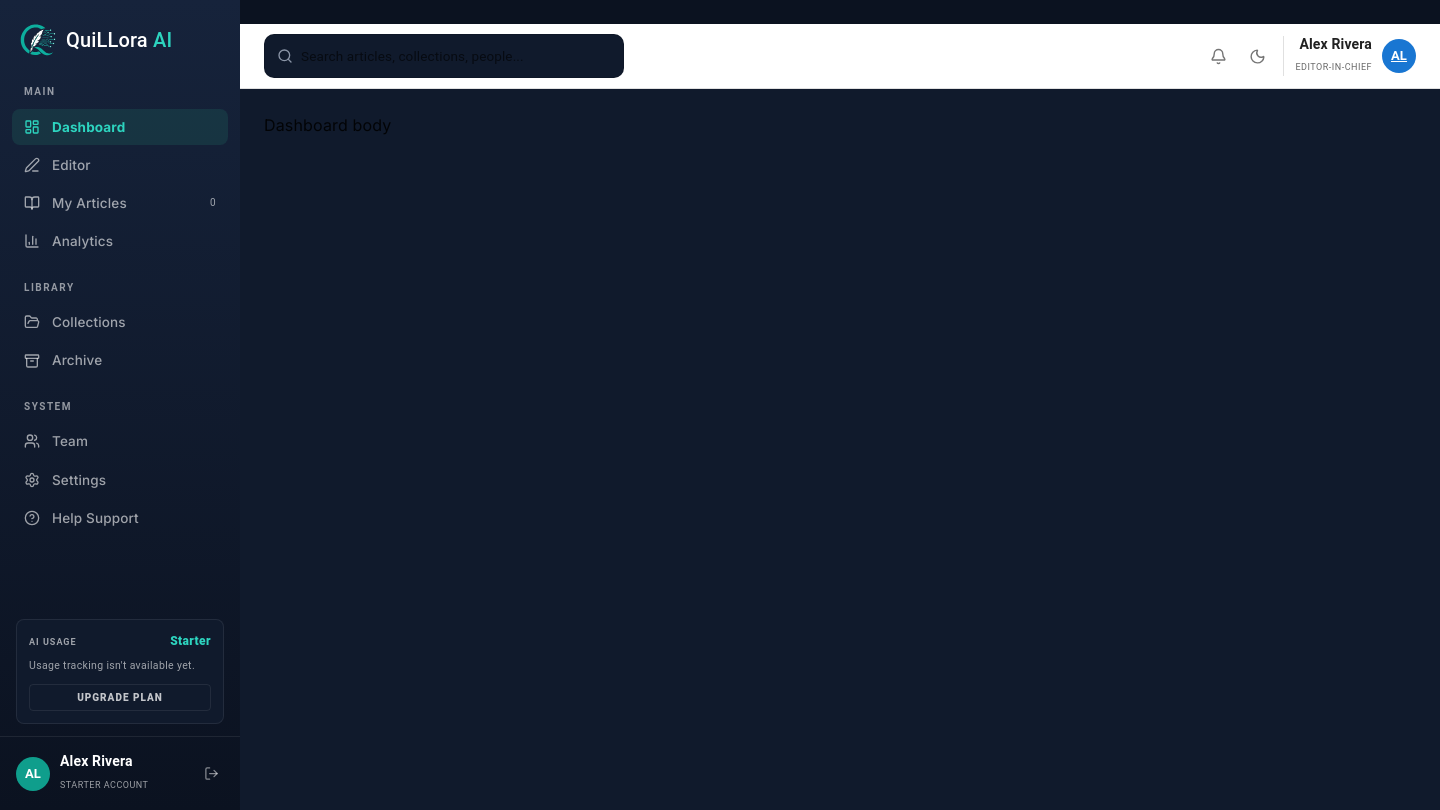
Test case: topbar search › encodes characters that would otherwise break the URL
The width and height of the screenshot is (1440, 810).
Type "a&b=c" into the field named "search articles, collections and people" at (456, 56), box [301,42,611,70]
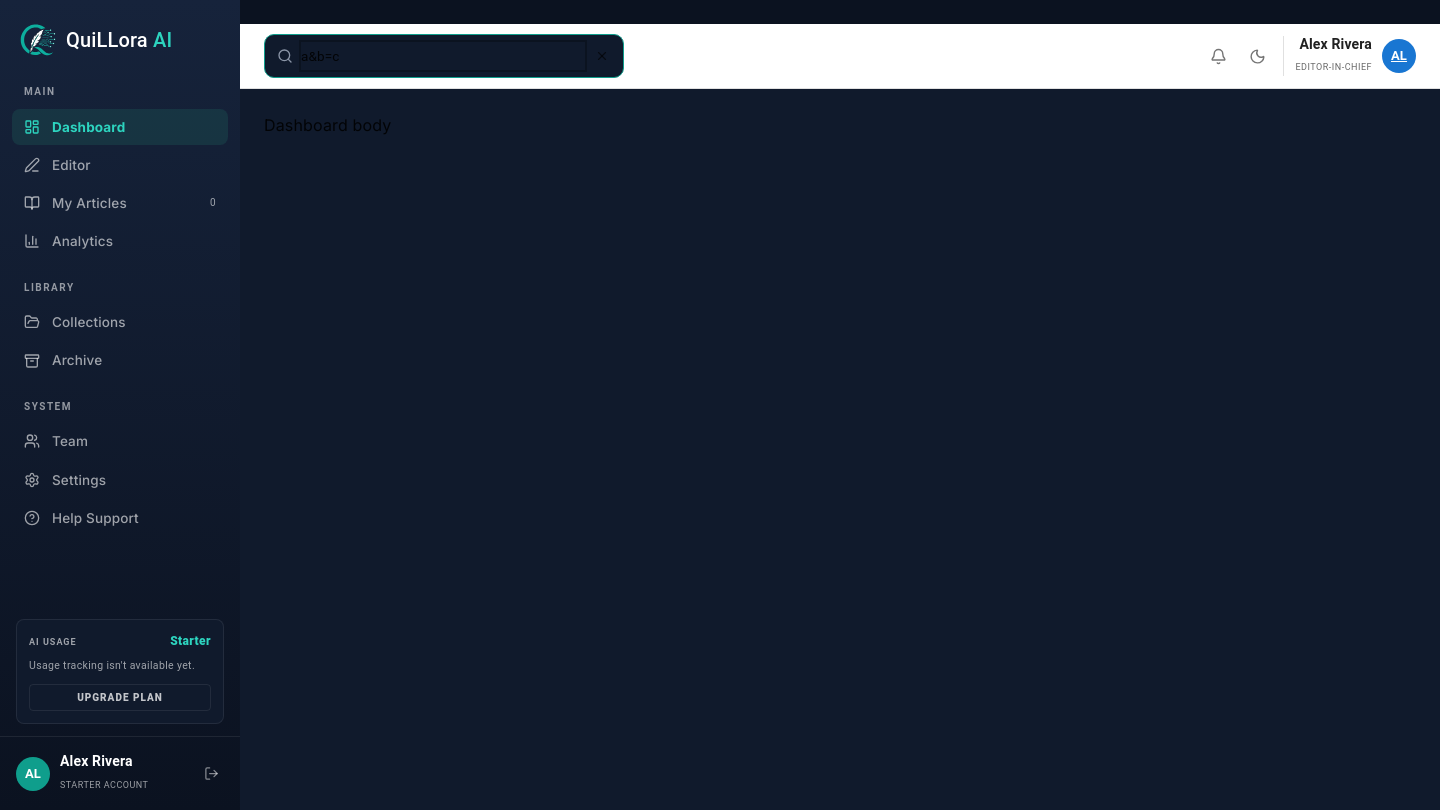
Press Enter
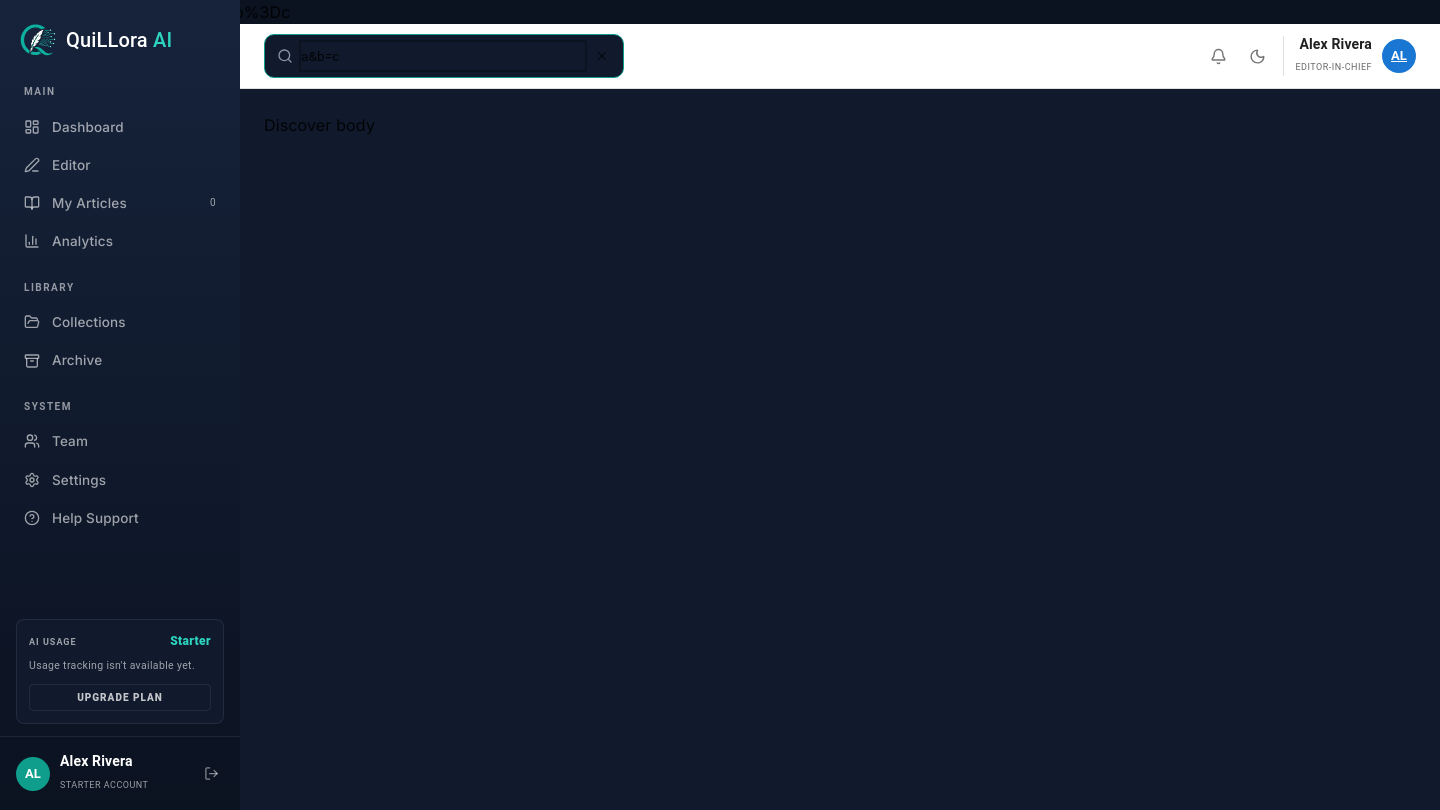
Expected: the text with test id "location" shows "q=a%26b%3Dc", [0,2,290,22]
